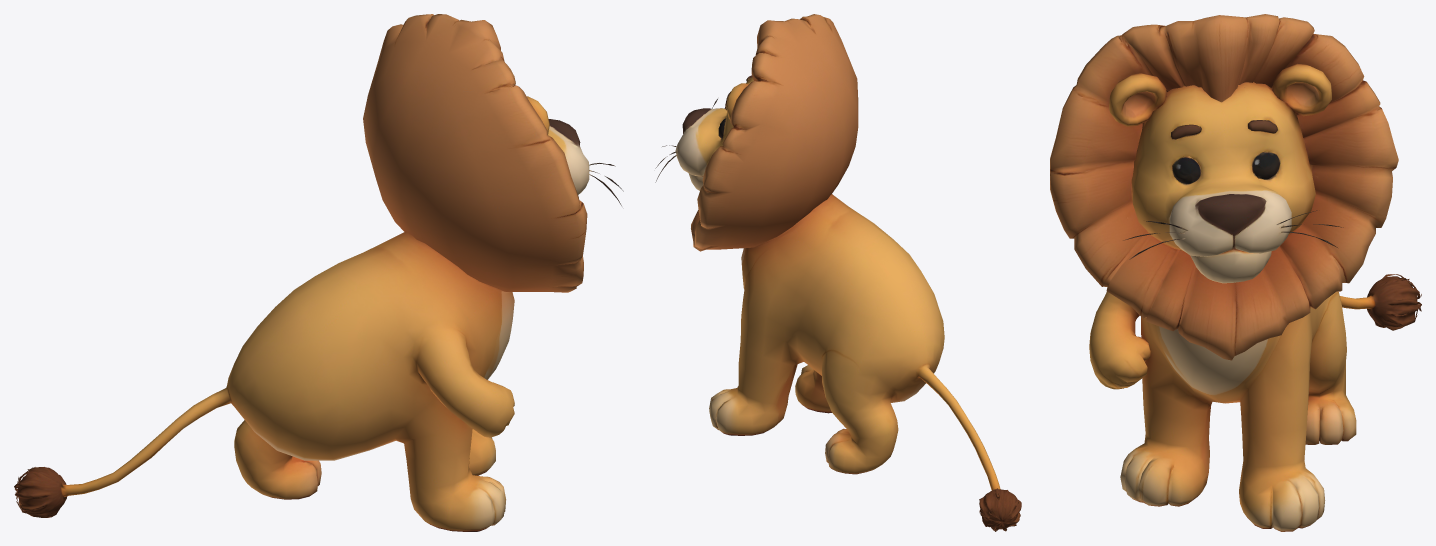
The model's file is lion.glb.
The picture shows the model from 3 angles, left to right: view 1: azimuth 30°, elevation 25°; view 2: azimuth 150°, elevation 25°; view 3: azimuth 270°, elevation 25°; orthographic projection. The views are drawn at different scales.
Visible parts, largest first — view 1: tripo_node_cfaa8171-78d4-4dfe-aa8f-09ed1bd17892; view 2: tripo_node_cfaa8171-78d4-4dfe-aa8f-09ed1bd17892; view 3: tripo_node_cfaa8171-78d4-4dfe-aa8f-09ed1bd17892.
Boxes of the visible parts, box(x1,y1,x2,y2) form: tripo_node_cfaa8171-78d4-4dfe-aa8f-09ed1bd17892: box(14, 14, 623, 531); tripo_node_cfaa8171-78d4-4dfe-aa8f-09ed1bd17892: box(655, 14, 1021, 531); tripo_node_cfaa8171-78d4-4dfe-aa8f-09ed1bd17892: box(1050, 14, 1421, 531).
Bounding box in the file's own units: 0.998 × 0.9395 × 0.6309.
1 material, 1 textured.
